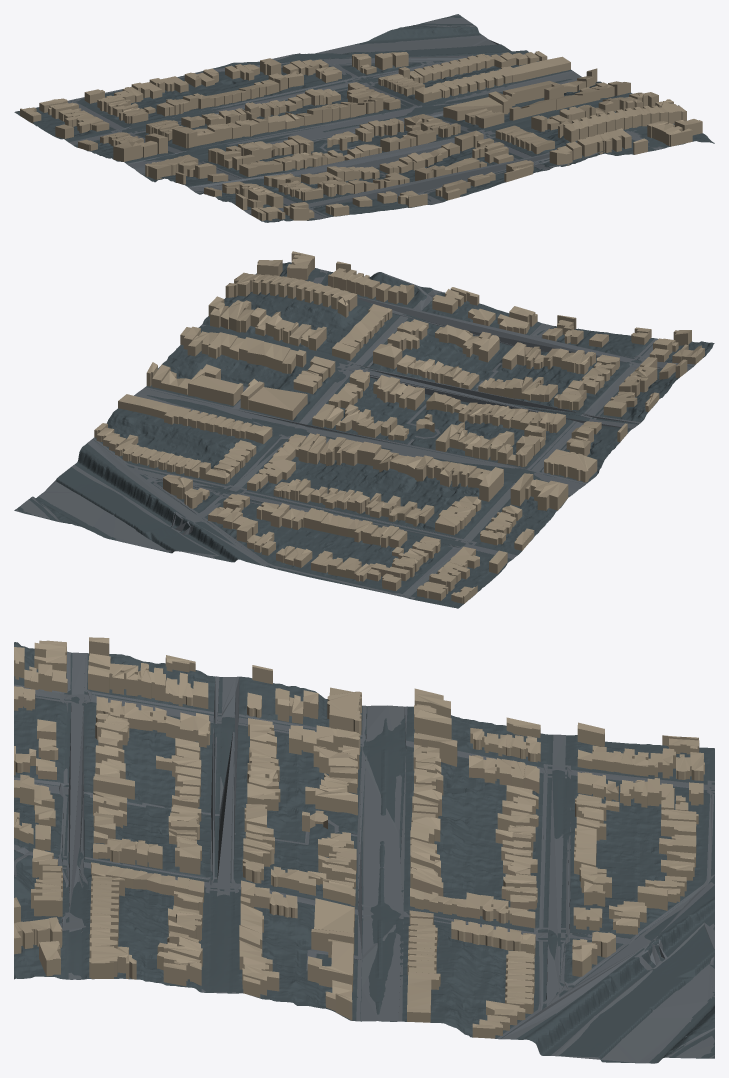
The model's file is epsg26910-1430-10875.lod0.glb.
The picture shows the model from 3 angles, top to bottom: view 1: azimuth 30°, elevation 25°; view 2: azimuth 150°, elevation 25°; view 3: azimuth 270°, elevation 25°; orthographic projection. The views are drawn at different scales.
Parts seen in each view (by area): view 1: epsg26910-1430-10875-lod0; view 2: epsg26910-1430-10875-lod0; view 3: epsg26910-1430-10875-lod0.
Part boxes in pixels (<box>): epsg26910-1430-10875-lod0: <box>14,14,714,222</box>; epsg26910-1430-10875-lod0: <box>14,251,714,608</box>; epsg26910-1430-10875-lod0: <box>14,637,714,1063</box>.
Bounding box in the file's own units: 384 × 83.38 × 384.
